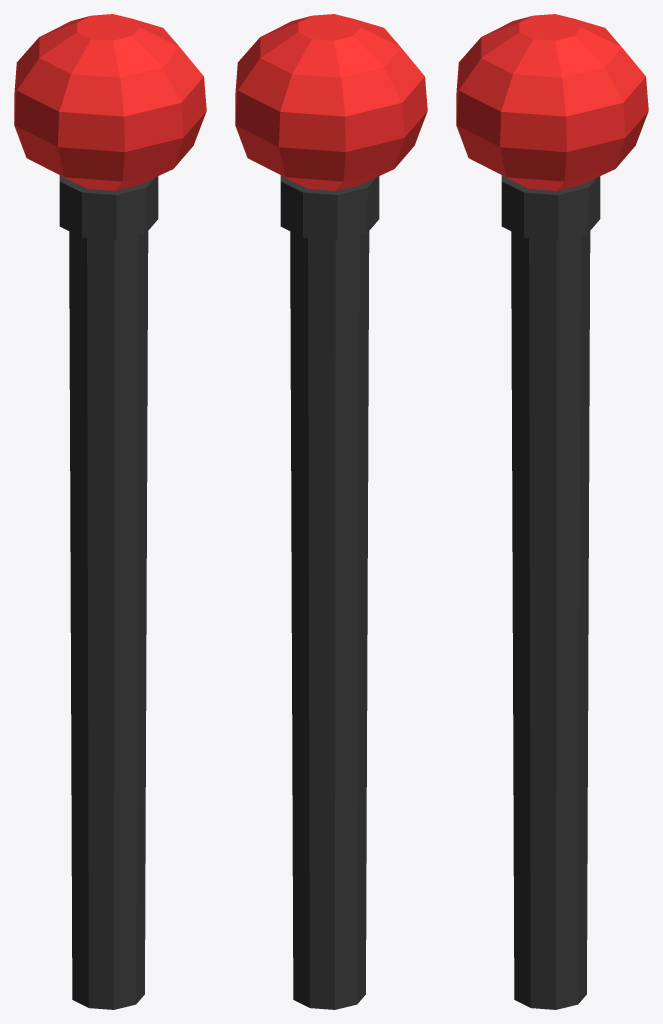
The model's file is lever.fbx.
3 views of the same model, side by side, from view 1: azimuth 30°, elevation 25°; view 2: azimuth 150°, elevation 25°; view 3: azimuth 270°, elevation 25° (orthographic).
Parts seen in each view (by area): view 1: lever_export; view 2: lever_export; view 3: lever_export.
Part boxes in pixels (bbox=[...]): lever_export: bbox=[14, 14, 206, 1009]; lever_export: bbox=[235, 14, 427, 1009]; lever_export: bbox=[456, 14, 648, 1009].
Size of the model in its own units: 13.27 by 72.42 by 13.07.
